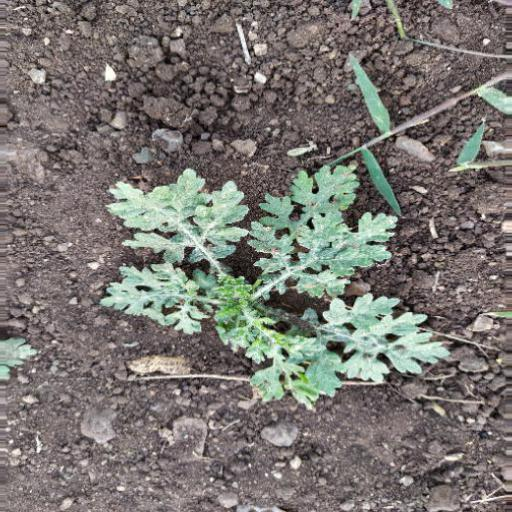weed: (107, 174, 451, 405)
